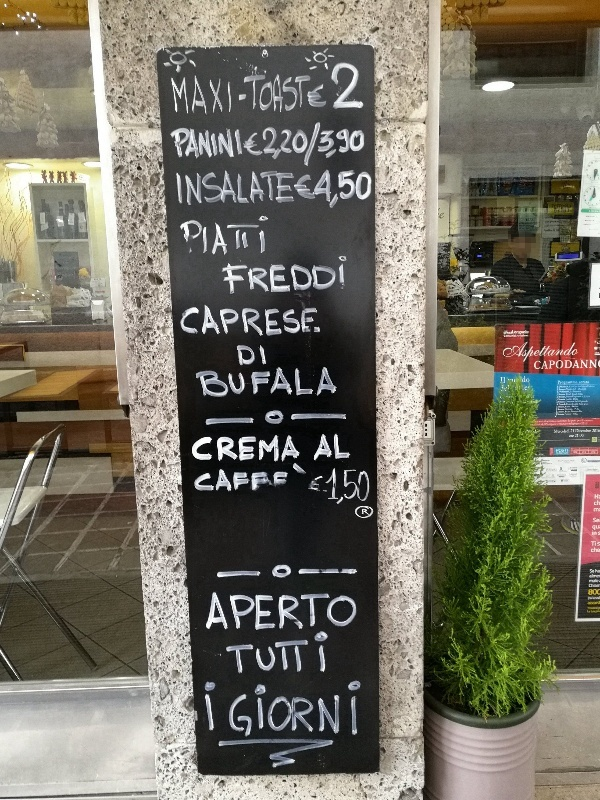text: (209, 675, 224, 743), (225, 675, 240, 743), (241, 675, 256, 743), (257, 675, 272, 743), (273, 675, 288, 743), (289, 675, 304, 743), (305, 675, 320, 743), (321, 675, 336, 743), (337, 675, 352, 743), (177, 117, 192, 173), (193, 117, 208, 173), (209, 117, 224, 173), (225, 117, 240, 173), (241, 117, 256, 173), (257, 117, 272, 173), (273, 117, 288, 173), (289, 117, 304, 173), (305, 117, 320, 173), (321, 117, 336, 173), (337, 117, 352, 173), (353, 117, 367, 173), (225, 627, 240, 679), (241, 627, 256, 679), (257, 627, 272, 679), (273, 627, 288, 679), (289, 627, 304, 679), (305, 627, 320, 679), (257, 61, 272, 111), (273, 61, 288, 111), (289, 61, 304, 111), (305, 61, 320, 111), (321, 61, 336, 111), (337, 61, 352, 111), (225, 588, 240, 636), (241, 588, 256, 636), (257, 588, 272, 636), (273, 588, 288, 636), (289, 588, 304, 636), (305, 588, 320, 636), (321, 588, 336, 636), (337, 588, 352, 636), (242, 61, 256, 111), (177, 214, 192, 260), (193, 214, 208, 260), (209, 214, 224, 260), (225, 214, 240, 260), (241, 214, 256, 260), (225, 254, 240, 300), (241, 254, 256, 300), (257, 254, 272, 300), (273, 254, 288, 300), (289, 254, 304, 300), (305, 254, 320, 300), (321, 254, 336, 300), (353, 675, 363, 743), (321, 464, 336, 509), (337, 464, 352, 509), (353, 464, 368, 509), (210, 588, 224, 636), (177, 168, 192, 212), (193, 168, 208, 212), (209, 168, 224, 212), (225, 168, 240, 212), (241, 168, 256, 212), (257, 168, 272, 212), (273, 168, 288, 212), (289, 168, 304, 212), (305, 168, 320, 212), (321, 168, 336, 212), (337, 168, 352, 212), (353, 168, 368, 212), (257, 214, 271, 260), (209, 360, 224, 402), (225, 360, 240, 402), (241, 360, 256, 402), (257, 360, 272, 402), (273, 360, 288, 402), (289, 360, 304, 402), (305, 360, 320, 402), (321, 360, 336, 402), (193, 427, 208, 469), (209, 427, 224, 469), (225, 427, 240, 469), (241, 427, 256, 469), (257, 427, 272, 469), (273, 427, 288, 469), (353, 61, 365, 111), (194, 360, 208, 402), (289, 427, 303, 469), (177, 77, 192, 116), (193, 77, 208, 116), (209, 77, 224, 116), (561, 379, 576, 417), (577, 379, 592, 417), (177, 302, 192, 339), (193, 302, 208, 339), (209, 302, 224, 339), (225, 302, 240, 339), (241, 302, 256, 339), (257, 302, 272, 339), (273, 302, 288, 339), (289, 302, 304, 339), (305, 302, 320, 339), (337, 254, 349, 300), (321, 430, 336, 464), (337, 430, 352, 464), (167, 117, 176, 173), (309, 464, 320, 509), (545, 457, 560, 490), (561, 457, 576, 490), (209, 464, 224, 496), (225, 464, 240, 496), (241, 464, 256, 496), (257, 464, 272, 496), (273, 464, 288, 496), (201, 675, 208, 743), (321, 627, 330, 679), (194, 464, 208, 496), (241, 342, 256, 369), (513, 340, 528, 365), (529, 340, 544, 365), (545, 340, 560, 365), (561, 340, 576, 365), (225, 77, 232, 116), (257, 342, 267, 369), (513, 376, 528, 394), (502, 340, 512, 365), (353, 588, 358, 636), (499, 376, 512, 394), (537, 457, 544, 490), (513, 326, 528, 341), (545, 358, 560, 371), (561, 358, 576, 371), (577, 358, 592, 371), (171, 77, 176, 116), (220, 254, 224, 300), (545, 417, 560, 429), (561, 417, 576, 429), (577, 417, 592, 429), (369, 168, 373, 212), (188, 427, 192, 469), (530, 417, 544, 429), (502, 326, 512, 341), (235, 342, 240, 369), (577, 457, 581, 490), (534, 358, 544, 371), (360, 504, 368, 519), (557, 379, 560, 417), (577, 428, 591, 435), (369, 464, 371, 509), (337, 360, 339, 402), (593, 379, 595, 417), (593, 358, 598, 371), (289, 464, 291, 496), (593, 567, 600, 575), (593, 529, 600, 537), (561, 429, 570, 435), (241, 94, 247, 103), (577, 340, 579, 365), (593, 428, 600, 435), (593, 547, 600, 554), (593, 525, 600, 532), (593, 517, 600, 524), (593, 506, 600, 513), (594, 493, 600, 501), (595, 481, 600, 490), (175, 168, 176, 212), (570, 428, 576, 435), (553, 429, 560, 435), (594, 500, 600, 507), (561, 448, 569, 453), (321, 302, 322, 339), (529, 376, 531, 394), (569, 434, 576, 439), (577, 434, 584, 439), (593, 574, 600, 579), (589, 567, 592, 575), (593, 540, 596, 547), (556, 448, 560, 453), (369, 504, 370, 519), (529, 326, 530, 341), (589, 574, 592, 579), (593, 417, 594, 429), (597, 542, 600, 546), (239, 94, 240, 103), (591, 428, 592, 435), (575, 428, 576, 435), (591, 547, 592, 554), (591, 540, 592, 547)
